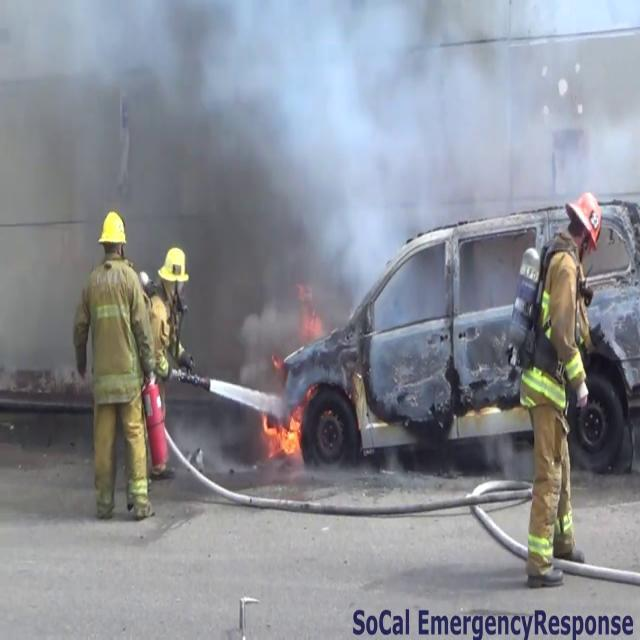Fire: (262, 400, 305, 460)
Smoke: (2, 0, 639, 324)
